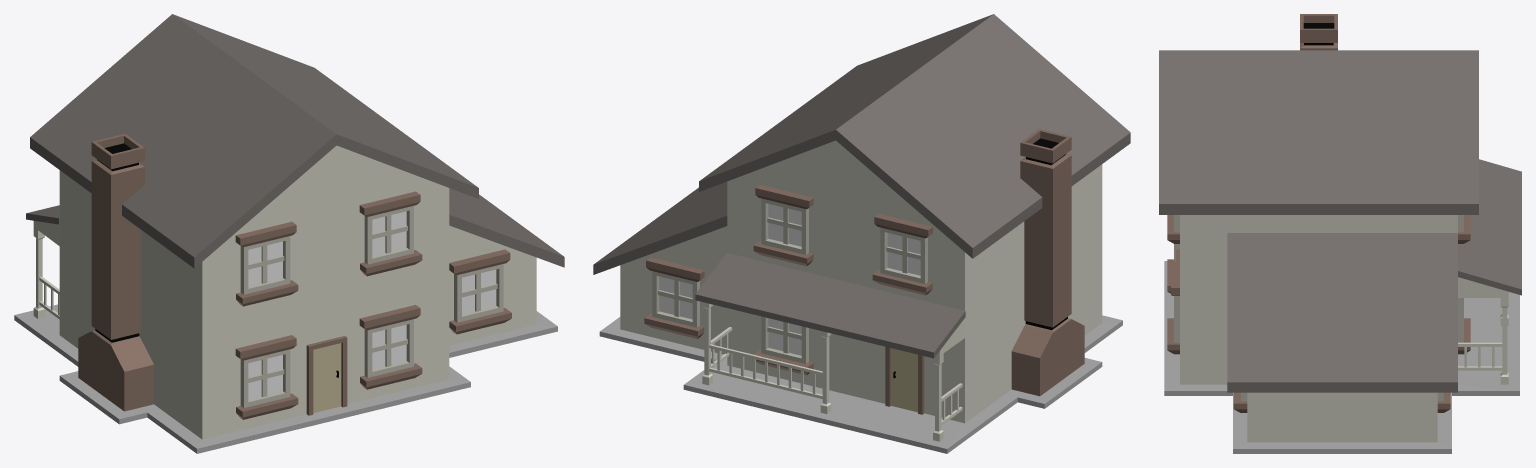
The model's file is sm_house.fbx.
3 views of the same model, side by side, from view 1: azimuth 30°, elevation 25°; view 2: azimuth 150°, elevation 25°; view 3: azimuth 270°, elevation 25° (orthographic). The views are drawn at different scales.
Parts seen in each view (by area): view 1: sm_house; view 2: sm_house; view 3: sm_house.
Boxes of the visible parts, left/top/right/bottom form: sm_house: left=14, top=14, right=564, bottom=453; sm_house: left=593, top=14, right=1130, bottom=453; sm_house: left=1159, top=14, right=1521, bottom=453.
Size of the model in its own units: 1383 by 890 by 1043.
